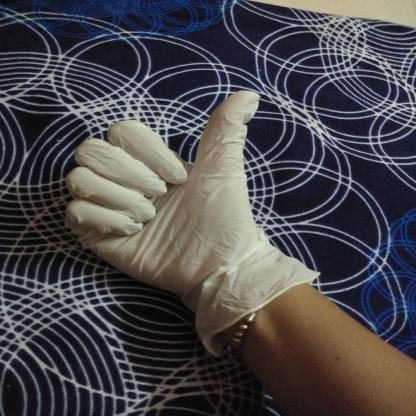gloved_hand: (59, 86, 324, 357)
